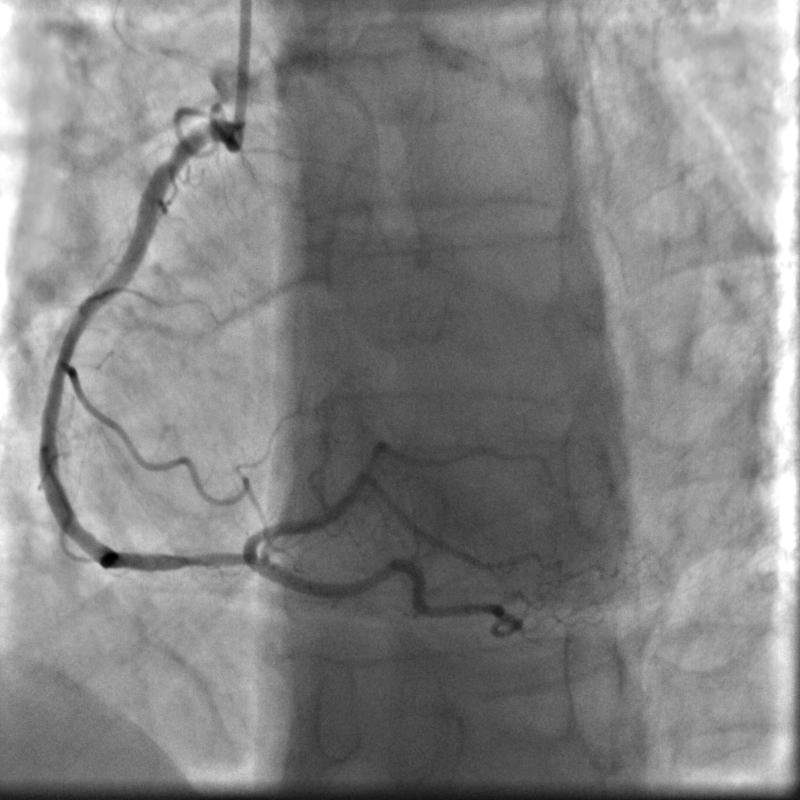Stenosis: (165, 542, 244, 582)
